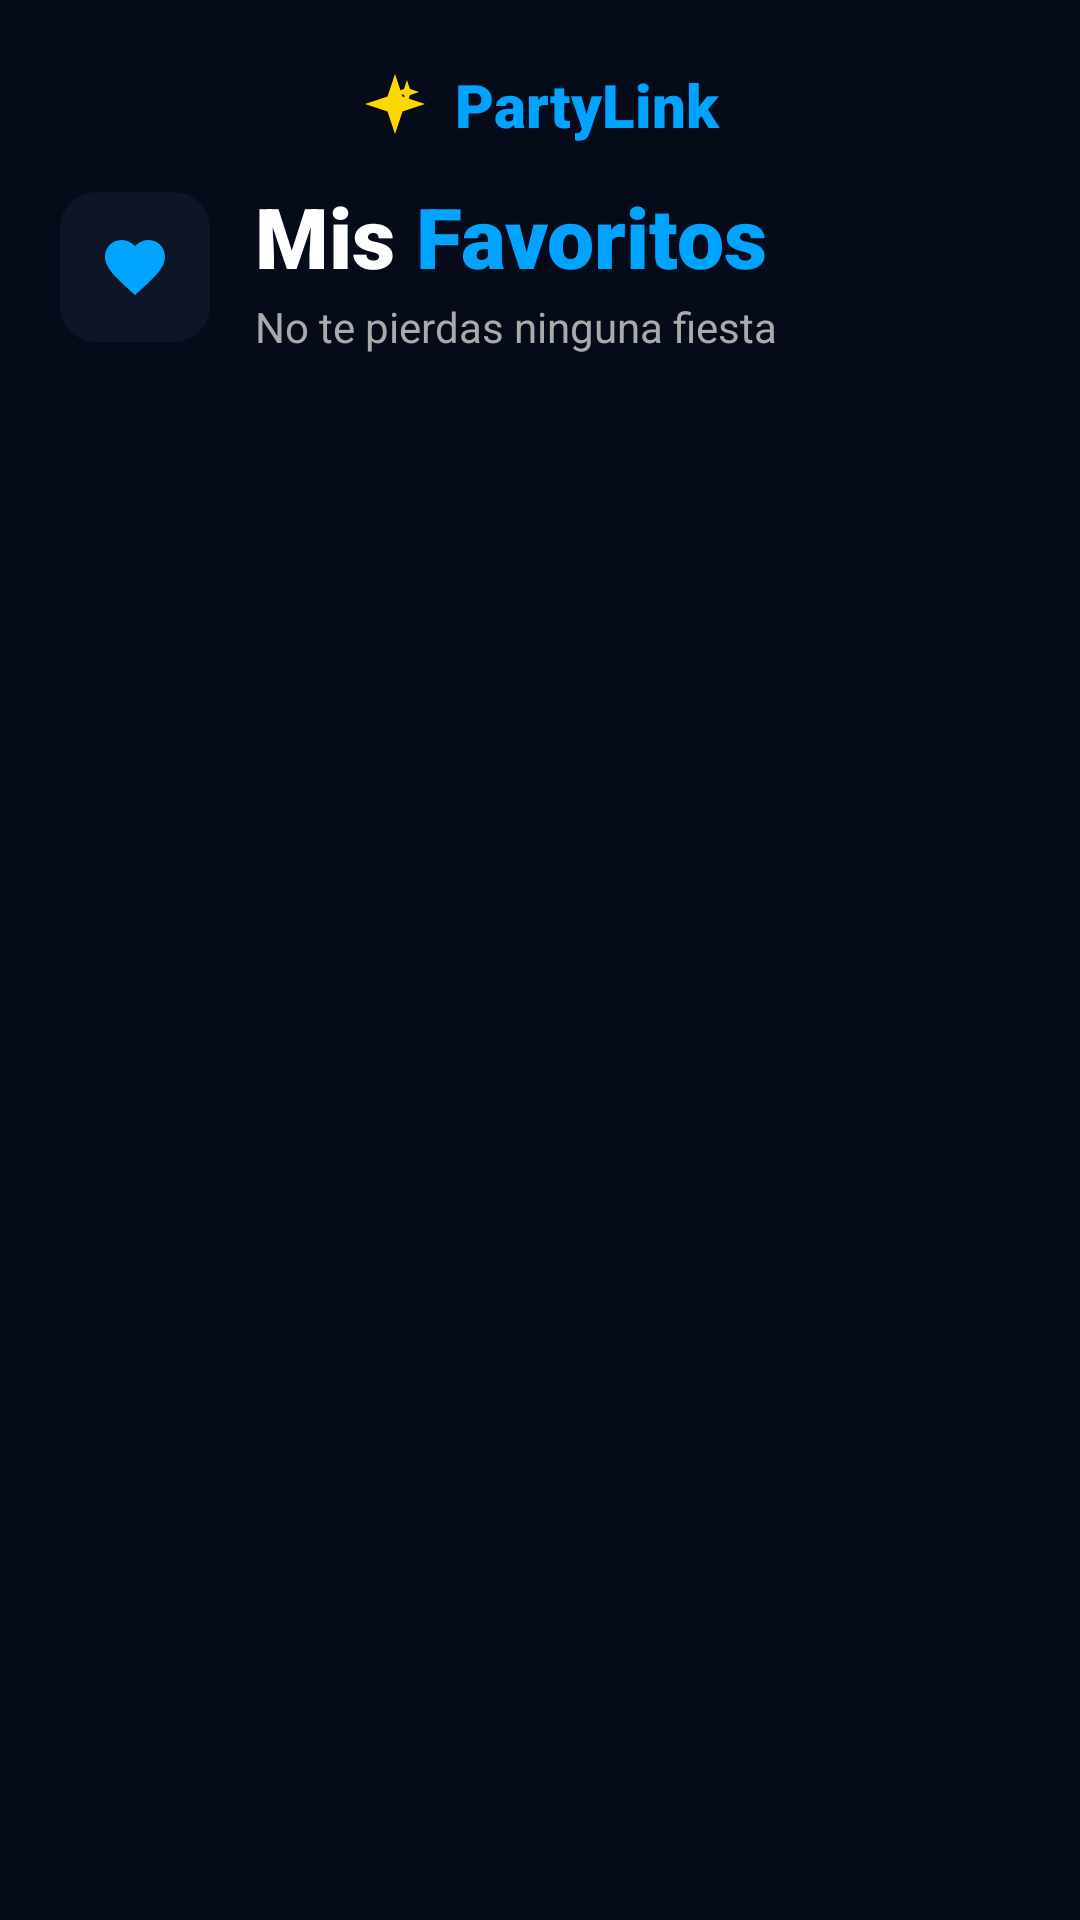

Icon click points for this 1080 × 1920 phone screenshot, format [x,y]:
heart: [135,267]
